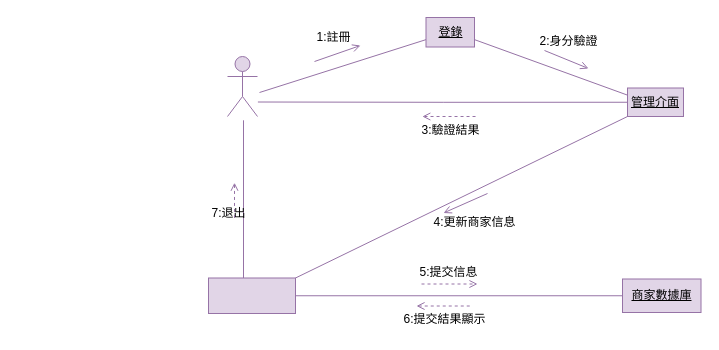
This 719x350 diagram has some shape labels left out. Each missing label, with the centre of its shape:
:系統管理員: point (242, 86)
商家管理 介面: point (252, 295)
